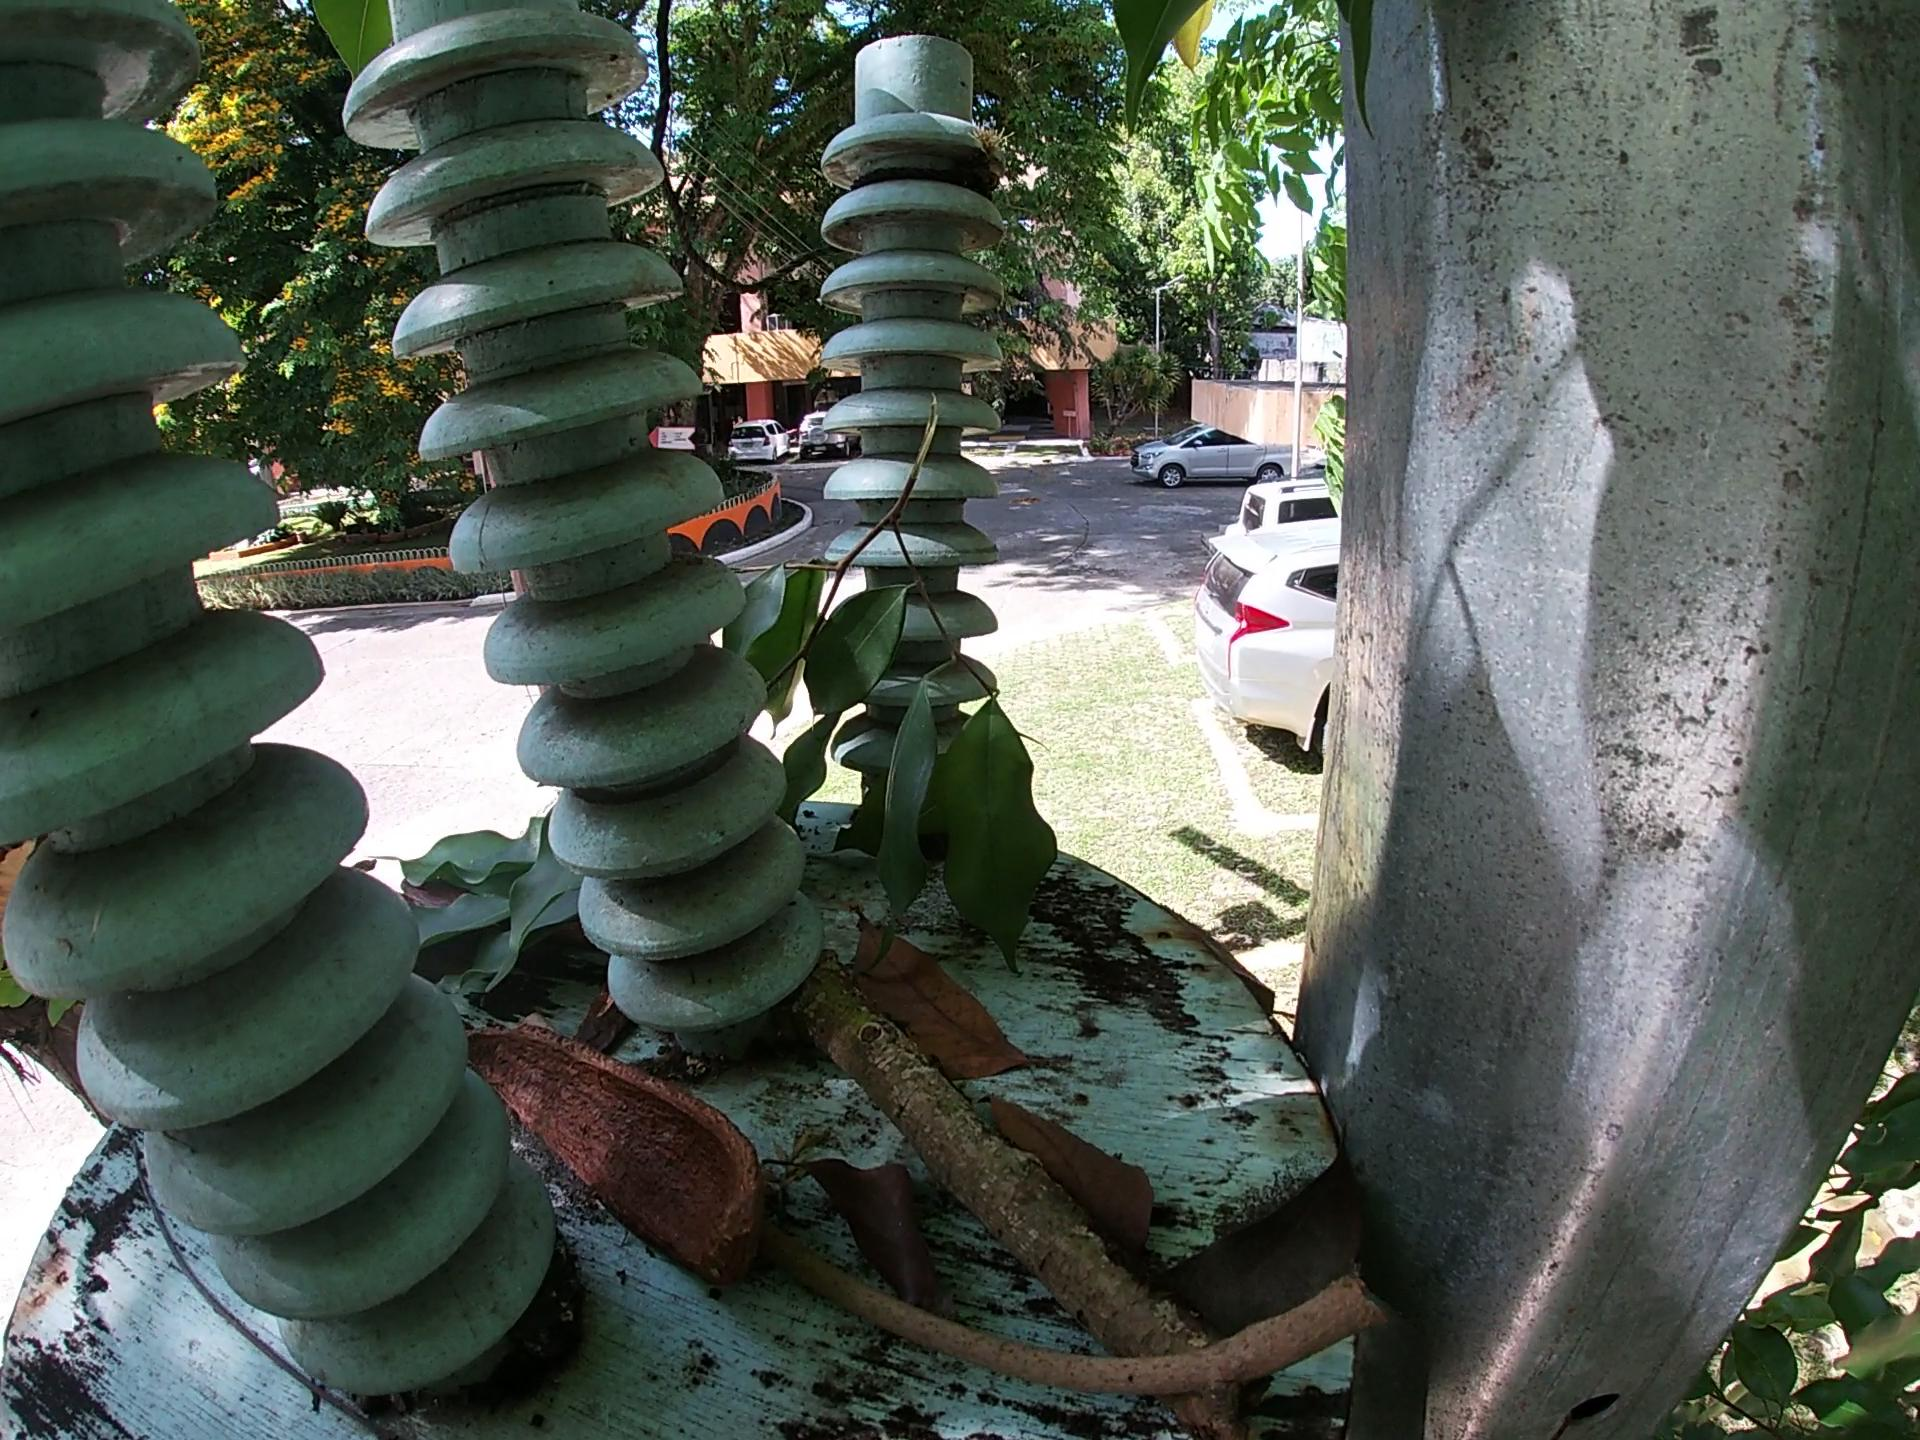branch with leaves: (701, 355, 1073, 985)
leaf: (392, 817, 639, 1027), (1163, 1131, 1370, 1321), (845, 898, 1051, 1088), (774, 1144, 951, 1298), (987, 1091, 1147, 1251)
mahogany fruit: (447, 1013, 770, 1289)
tree branch: (798, 967, 1279, 1420), (757, 1224, 1377, 1383), (116, 1137, 399, 1440)
